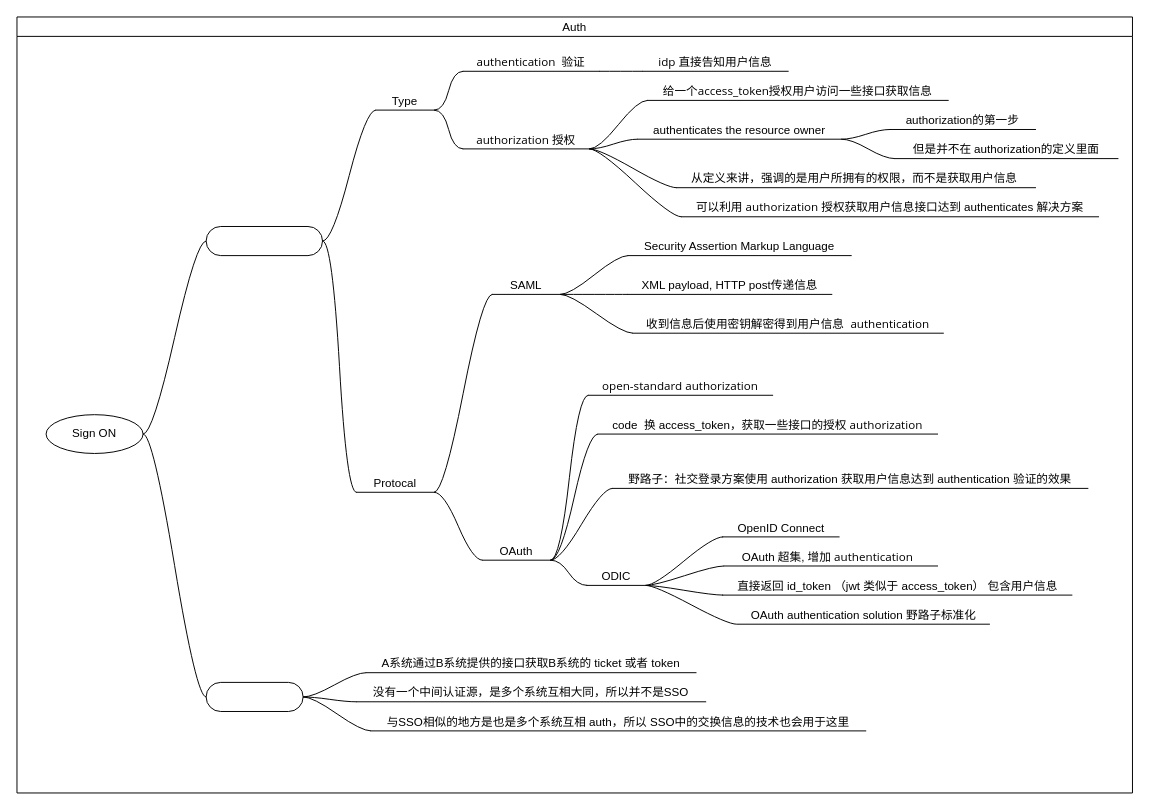
This 1149x810 diagram has some shape labels left out. Each missing label, with the centre of its shape:
"single sign-on" belongs at [264,241].
"登录态交换" belongs at [254,696].
